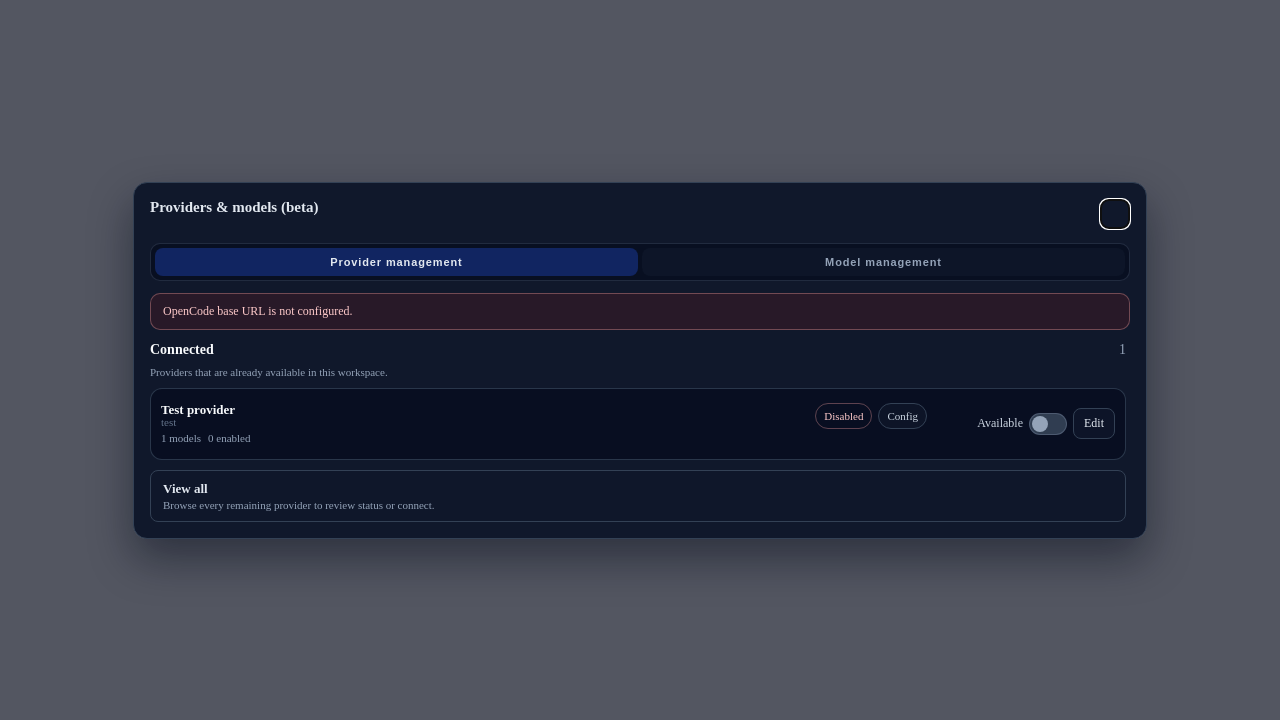
Test case: shows the same disabled availability in installed rows and provider catalog
The width and height of the screenshot is (1280, 720).
Expected: the button "Edit" is shown, [1073, 408, 1115, 439]
Expected: the text with class "status-badge" reads "Disabled", [824, 410, 863, 422]
Click the button that starts with "View all" at (185,488), box [150, 470, 1126, 522]
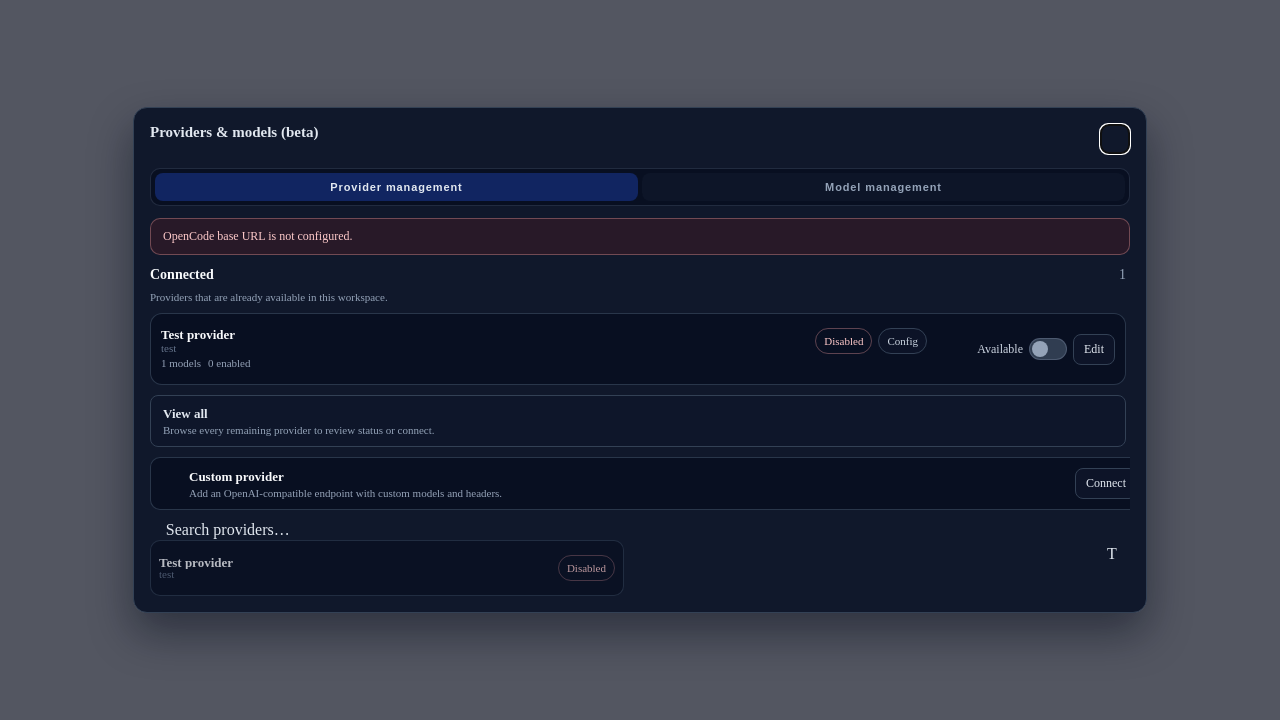
Expected: the 2nd text with class "status-badge" reads "Disabled", [567, 562, 606, 574]
